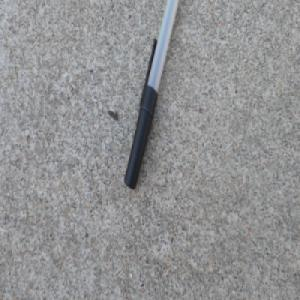Pen: (123, 0, 180, 192)
